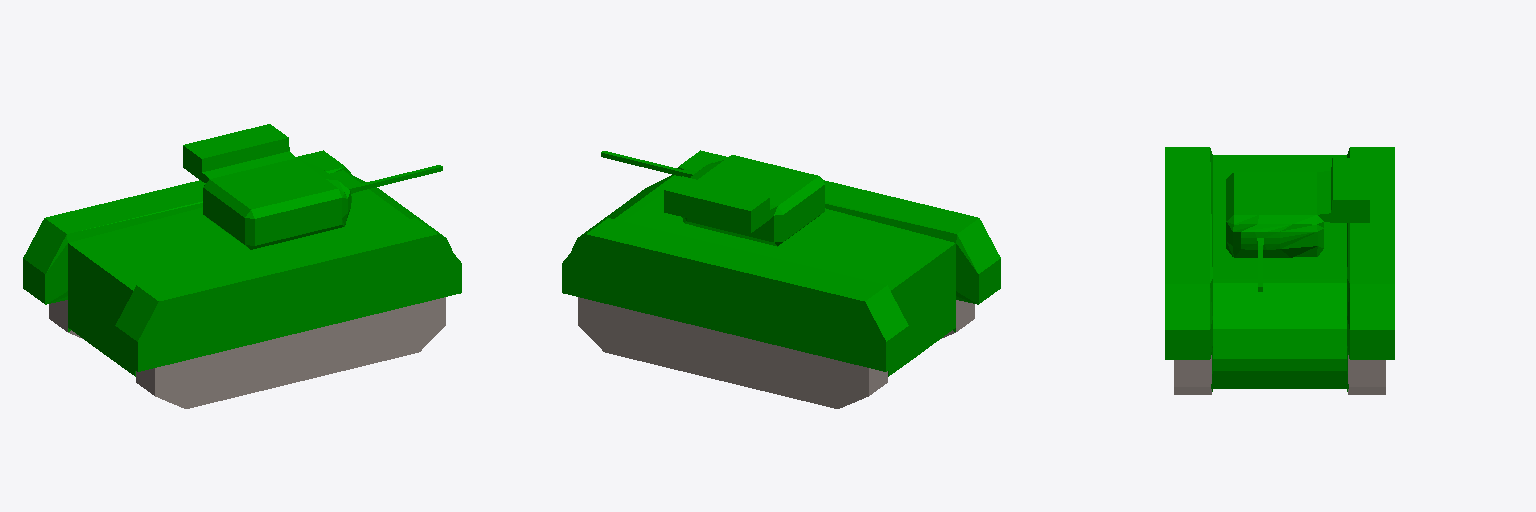
Rendered from AFV.obj.
3 views of the same model, side by side, from view 1: azimuth 30°, elevation 25°; view 2: azimuth 150°, elevation 25°; view 3: azimuth 270°, elevation 25° (orthographic).
Parts seen in each view (by area): view 1: Hull_Cube.001, Turret_Cube; view 2: Hull_Cube.001, Turret_Cube; view 3: Hull_Cube.001, Turret_Cube.
Boxes of the visible parts, x1=… form: Hull_Cube.001: x1=23, y1=150, x2=461, y2=408; Turret_Cube: x1=183, y1=124, x2=442, y2=249; Hull_Cube.001: x1=562, y1=150, x2=1000, y2=408; Turret_Cube: x1=601, y1=151, x2=824, y2=246; Hull_Cube.001: x1=1165, y1=147, x2=1394, y2=394; Turret_Cube: x1=1226, y1=158, x2=1369, y2=291.
Bounding box in the file's own units: 3.02 × 1.39 × 1.71.